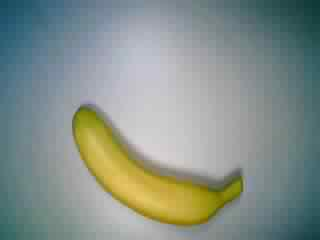banana: (68, 101, 249, 232)
